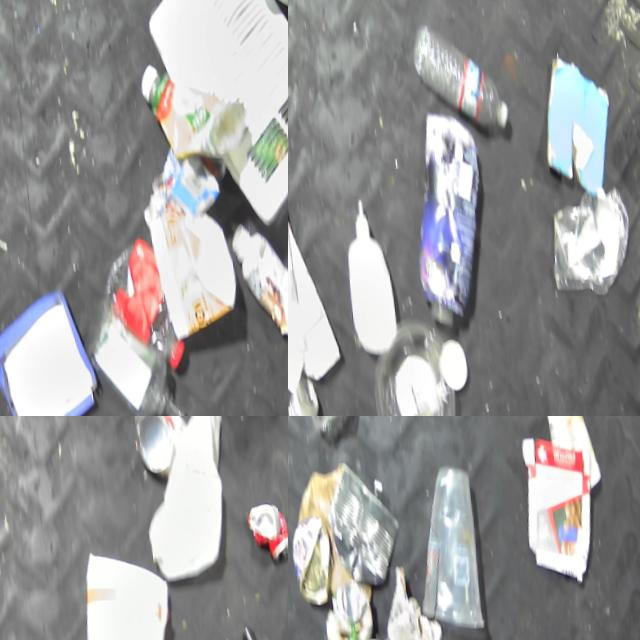can: (318, 466, 397, 598), (288, 517, 328, 614), (239, 510, 288, 578), (128, 416, 171, 485), (288, 378, 313, 416)
milk_jug: (128, 416, 237, 593)
plastic_bottle: (404, 16, 507, 150)
